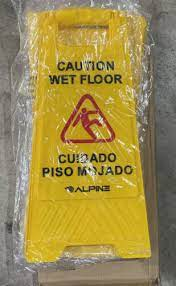wet caution sign: (18, 10, 162, 270)
